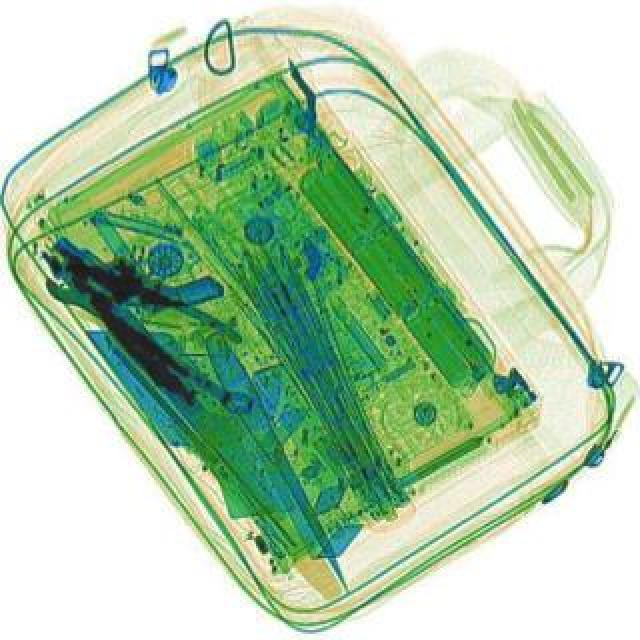gun: (46, 188, 226, 346)
knife: (194, 328, 368, 602)
scissors: (36, 250, 264, 430)
wrench: (20, 224, 248, 412)
